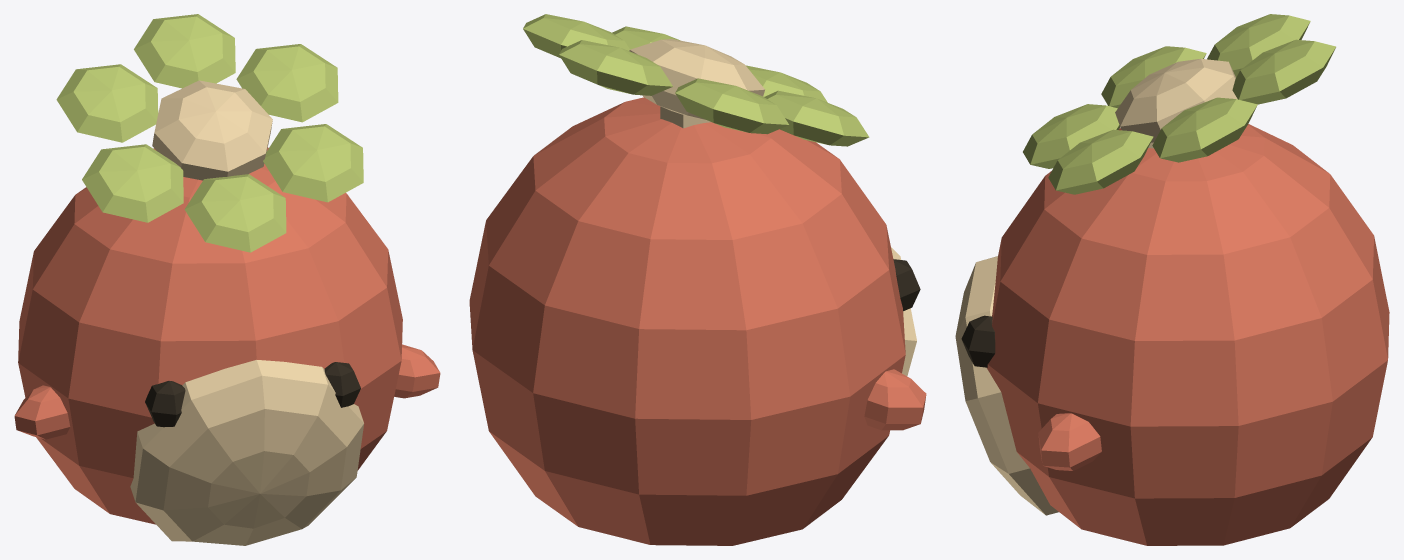
The model's file is sprite-sand-2.glb.
3 renders of one model, left to right at view 1: azimuth 30°, elevation 25°; view 2: azimuth 150°, elevation 25°; view 3: azimuth 270°, elevation 25°, orthographic. The views are drawn at different scales.
Visible parts, largest first — view 1: sprite-sand-2; view 2: sprite-sand-2; view 3: sprite-sand-2.
Boxes of the visible parts, x1,y1,x2,y2 form: sprite-sand-2: [14, 14, 440, 545]; sprite-sand-2: [469, 14, 926, 545]; sprite-sand-2: [955, 14, 1389, 545].
Size of the model in its own units: 0.6362 by 0.7 by 0.5894.
